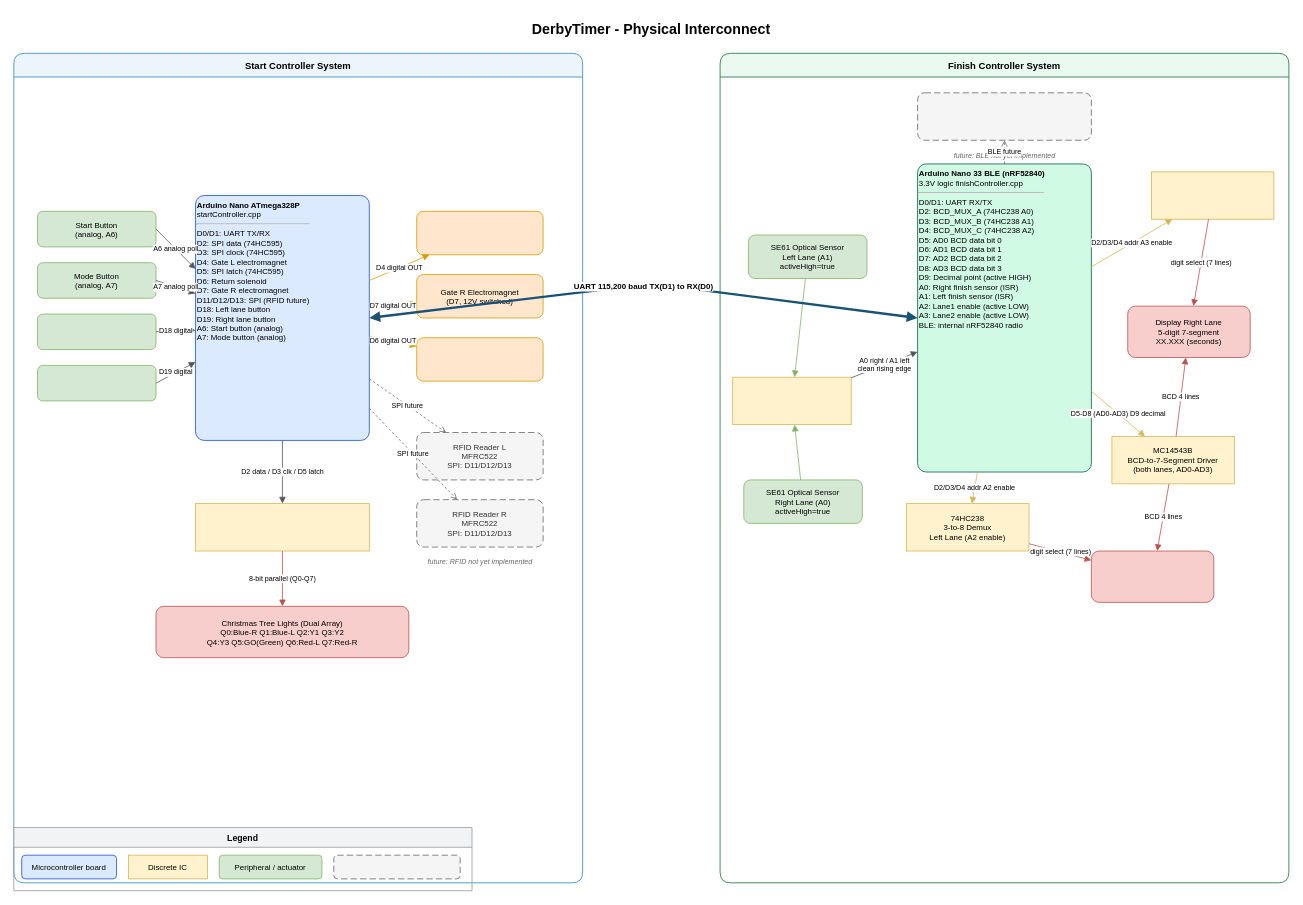
Some shapes in this 1303 by 905 pixel diagram are drawn without their labels. Here are the shapes that lost their labels. From the top down, the centre of each, then its label:
the point at 1004,116: Race Manager Raspberry Pi BLE Central
the point at 1212,195: 74HC238 3-to-8 Demux Right Lane (A3 enable)
the point at 479,233: Gate L Electromagnet (D4, 12V switched)
the point at 96,331: Left Lane Button (digital, D18, ext pull-up)
the point at 479,359: Return Solenoid (D6, 12V switched) 500 ms pulse
the point at 96,383: Right Lane Button (digital, D19, ext pull-up)
the point at 791,400: 74HC14 Schmitt-Trigger Inverter (signal conditioning)
the point at 282,527: 74HC595 8-bit Shift Register Data:D2 Clk:D3 Latch:D5
the point at 1152,576: Display Left Lane 5-digit 7-segment XX.XXX (seconds)
the point at 396,866: Future (not implemented)
